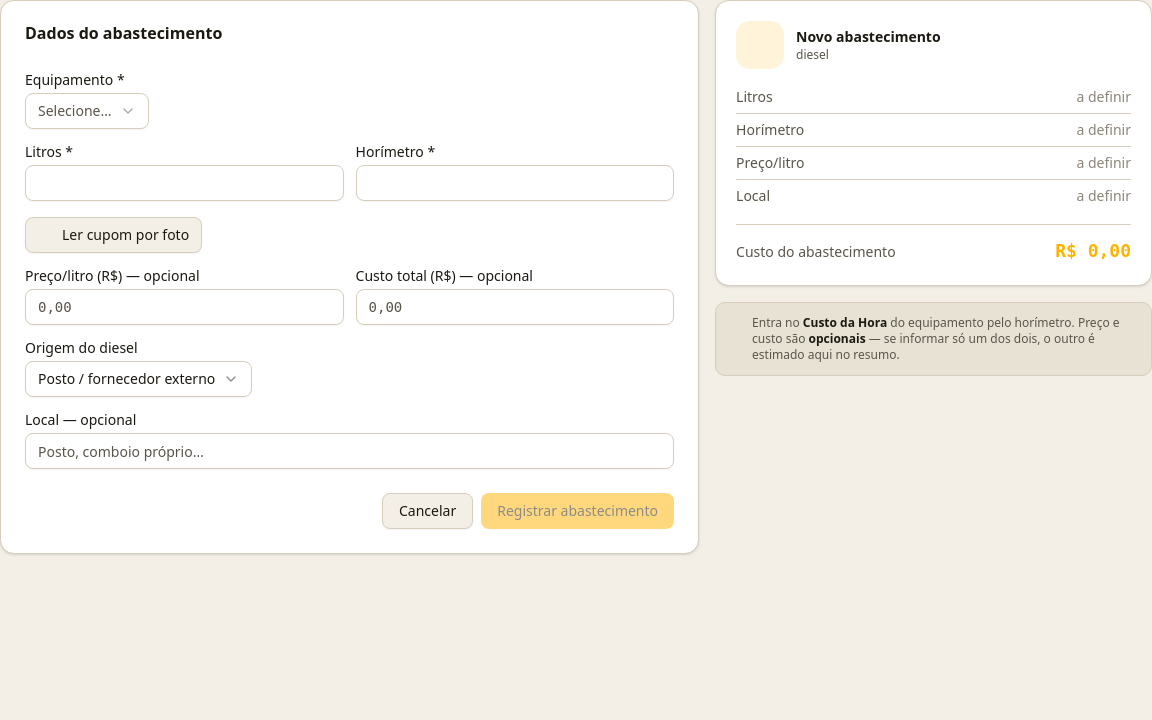
Test: AbastecimentoForm › custo total informado manualmente tem prioridade sobre a estimativa
Expected: the text "Novo abastecimento" is shown, x1=796 y1=27 x2=941 y2=47
In the number field labelled "Litros *": (184, 183) x1=25 y1=165 x2=344 y2=201, type "100"
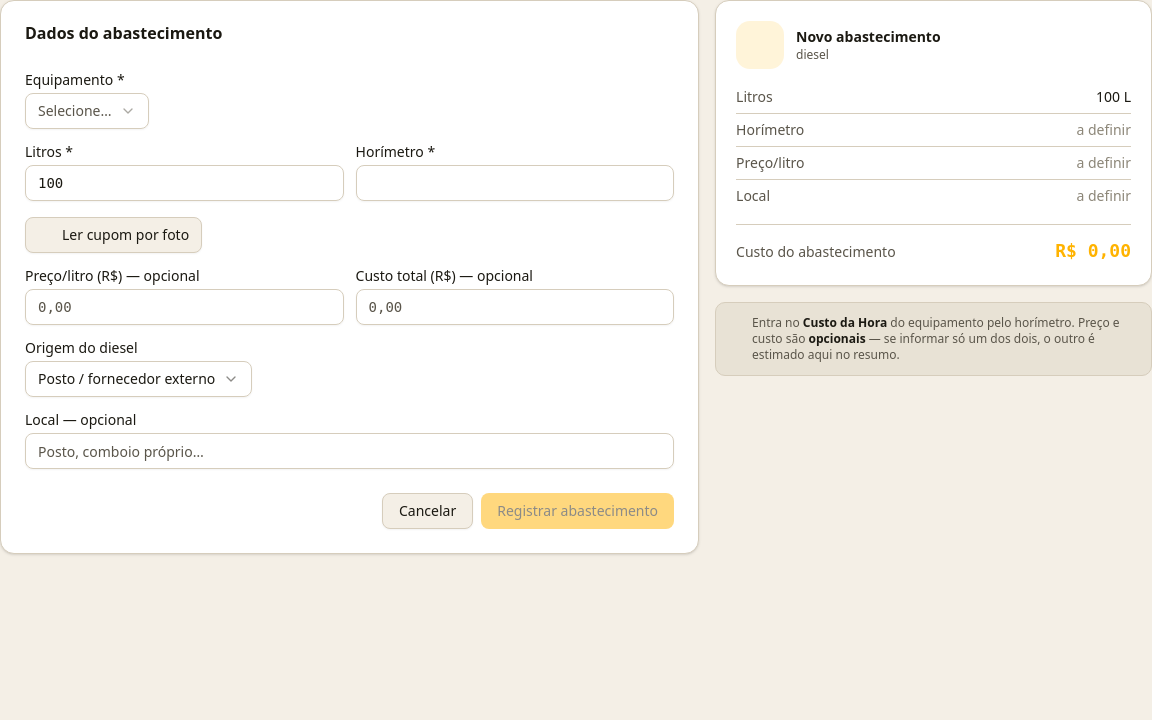
In the number field labelled "Preço/litro (R$) — opcional": (184, 307) x1=25 y1=289 x2=344 y2=325, type "6"
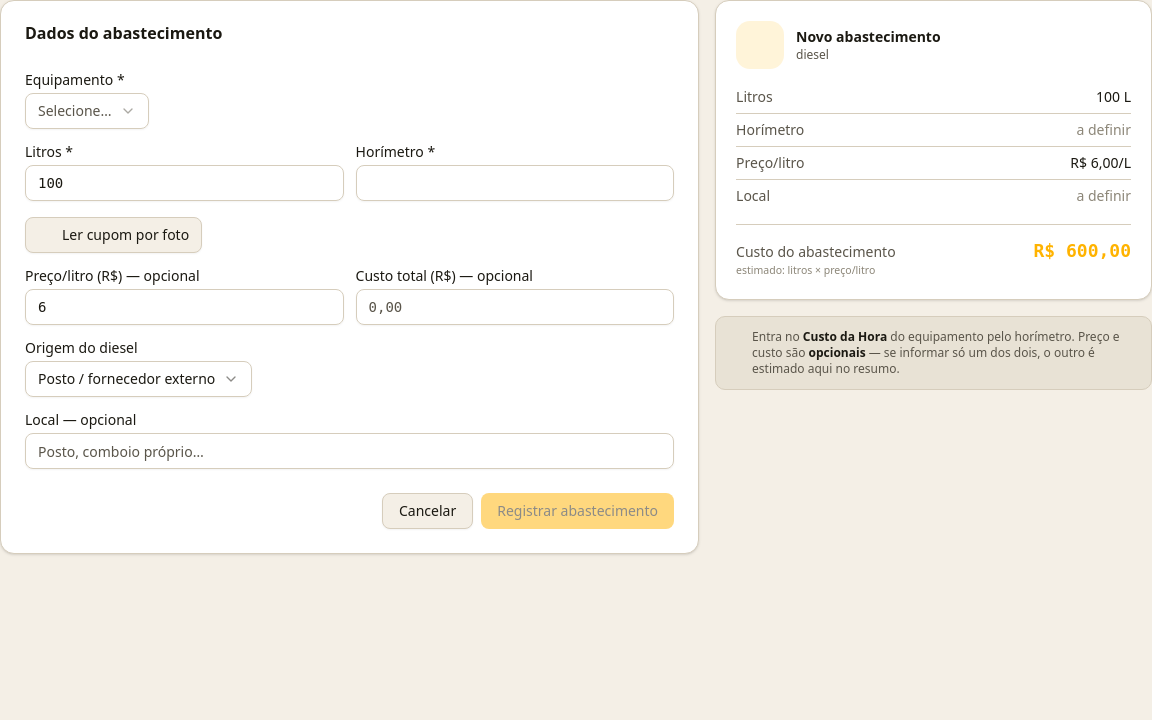
In the number field labelled "Custo total (R$) — opcional": (515, 307) x1=356 y1=289 x2=674 y2=325, type "550"
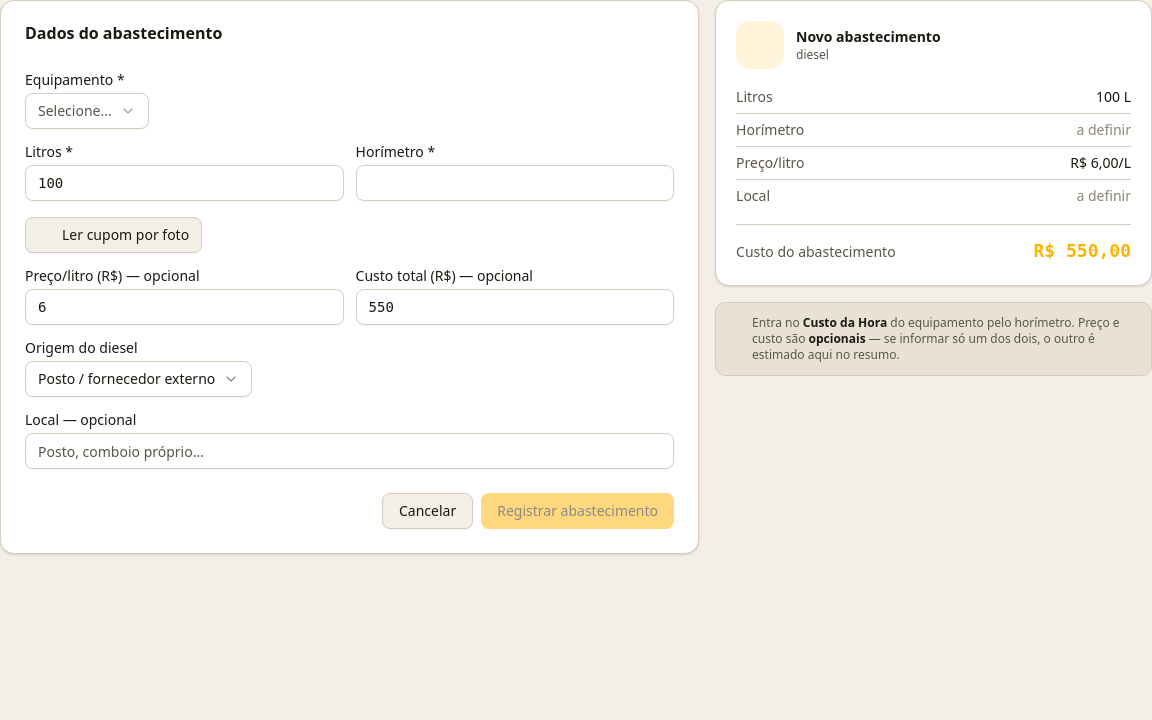
Expected: the text "R$ 550,00" is shown, x1=1034 y1=237 x2=1131 y2=265
Expected: the text "estimado: litros × preço/litro" is gone
